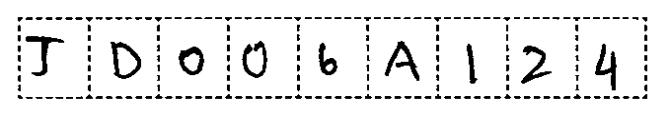0: (237, 35, 272, 82), (175, 40, 209, 80)
1: (449, 40, 490, 87)
2: (512, 41, 559, 86)
4: (584, 41, 626, 92)
6: (307, 37, 352, 80)
A: (378, 35, 430, 85)
D: (104, 34, 146, 84)
J: (22, 31, 69, 80)
